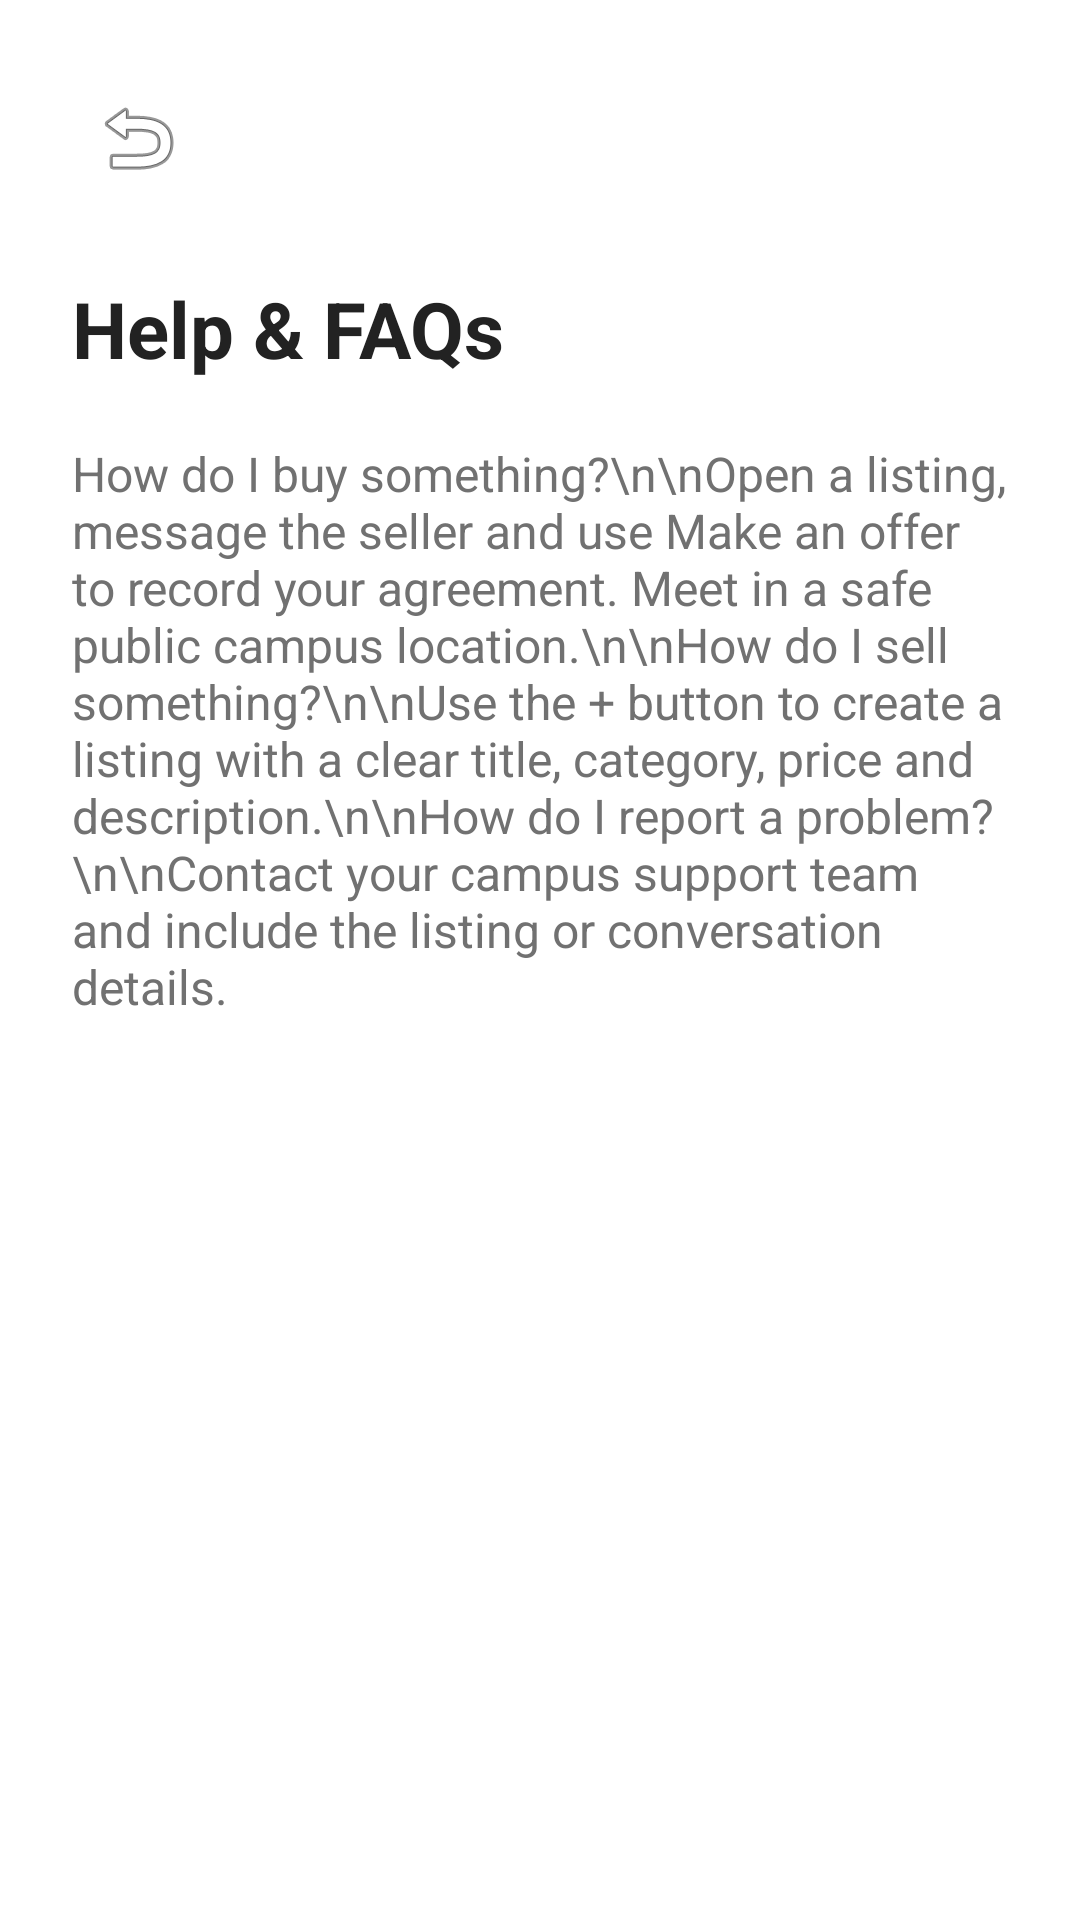

Locate icon controls on the screen. Image size 1080 x 1920, boxes as (x1, y1, x2, y2).
Back: (105, 107, 174, 170)
